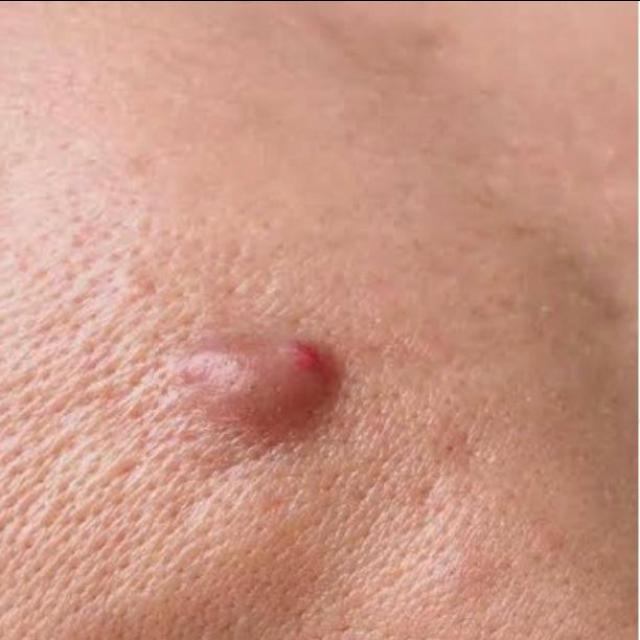nodule: (134, 286, 373, 458)
